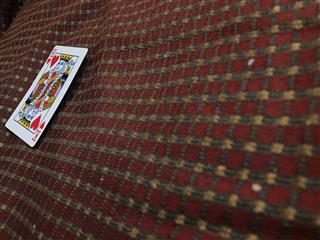KingOfHearts: (4, 44, 88, 147)
